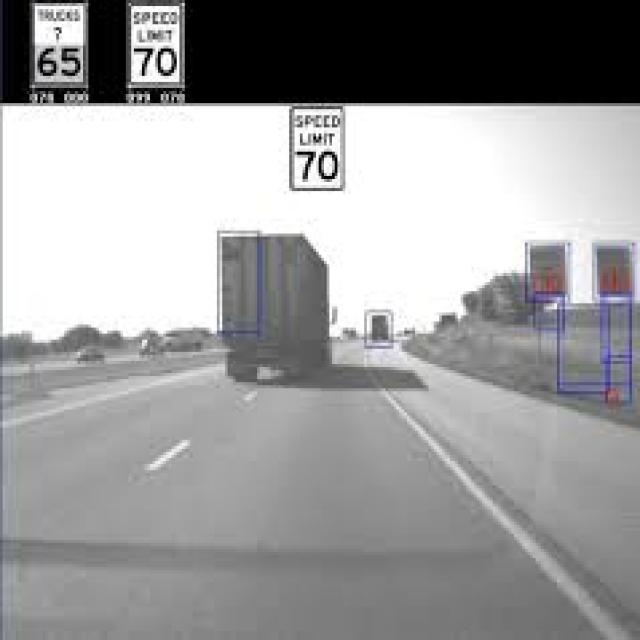speedLimit70: (282, 103, 352, 191), (126, 3, 185, 85)
